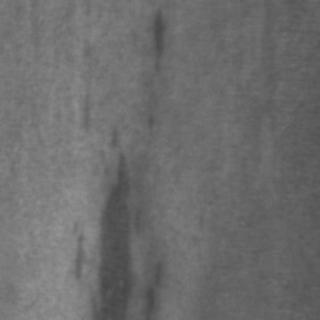inclusion: (66, 125, 170, 315), (138, 1, 170, 74)
